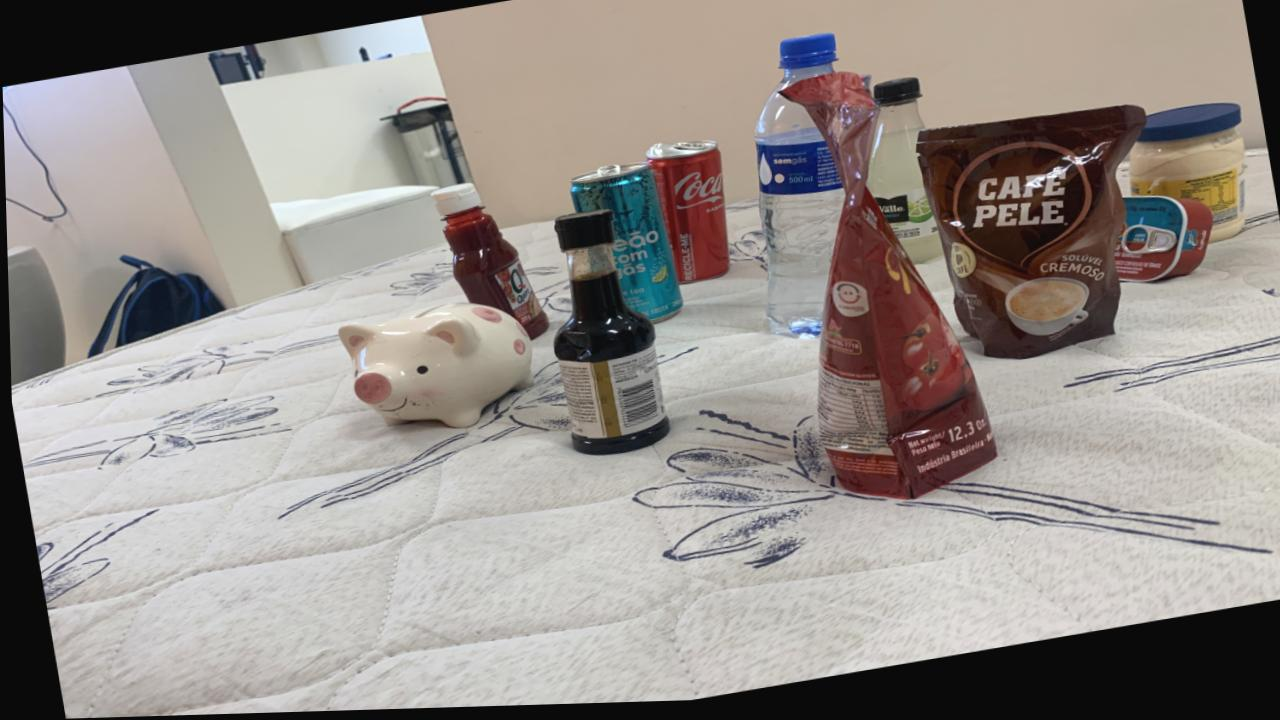Coffee-Pantry_Items: (915, 111, 1145, 365)
Coke-Drinks: (645, 144, 728, 287)
English_Sauce-Pantry_Items: (550, 214, 667, 458)
Ketchup-Pantry_Items: (431, 185, 547, 342)
Mayonnaise-Pantry_Items: (1126, 110, 1244, 249)
Pig_Safe-Miscellaneous: (335, 305, 531, 430)
Soda-Drinks: (865, 82, 941, 269)
Tea-Drinks: (568, 166, 680, 326)
Tomato_Sauce-Pantry_Items: (782, 77, 994, 504)
Tuna_Can-Pantry_Items: (1112, 202, 1212, 289)
Water_Bottle-Drinks: (753, 38, 843, 343)
